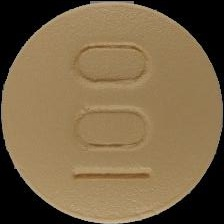50436-6338: (0, 0, 224, 224)
